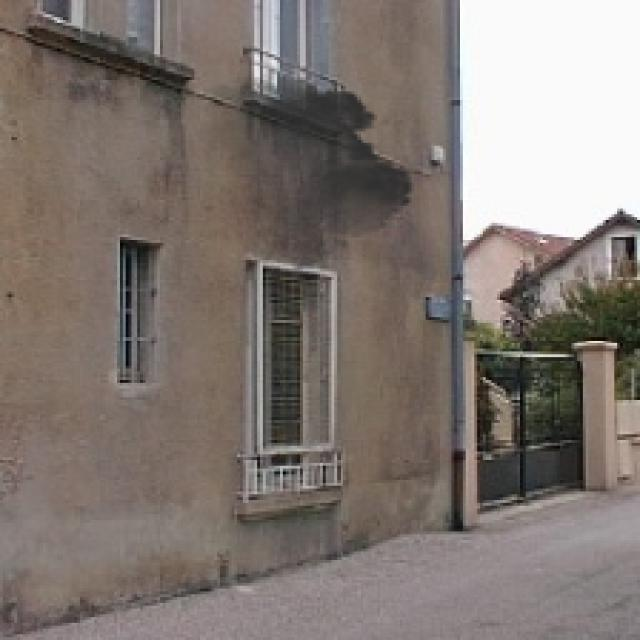smoke: (191, 72, 423, 277)
